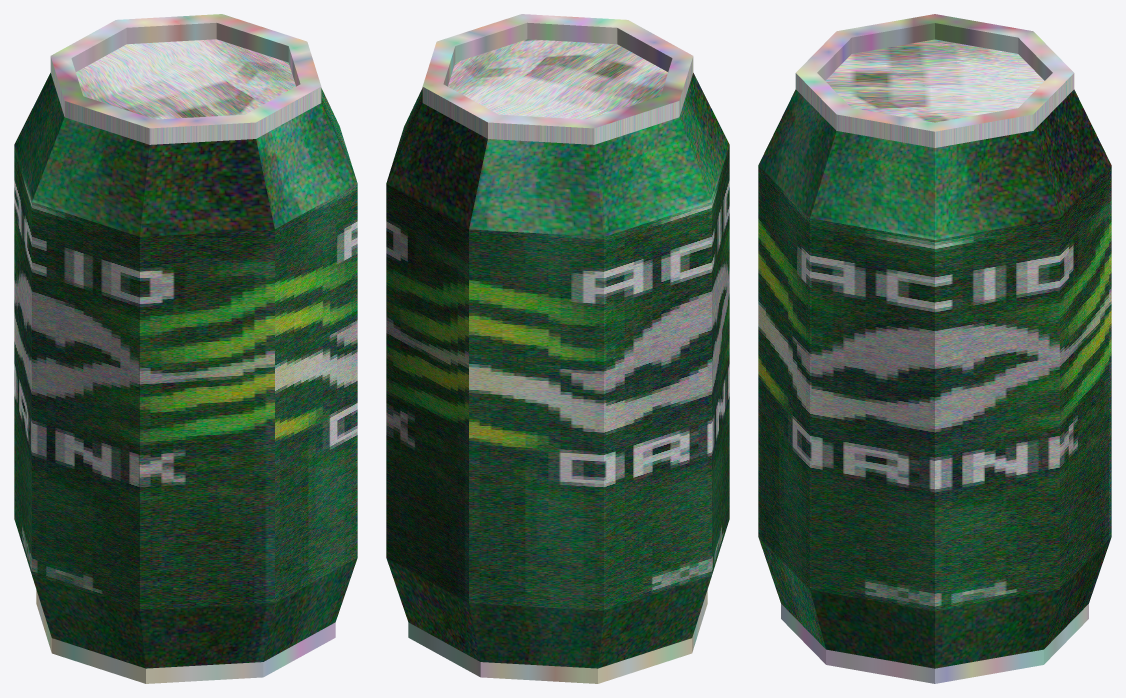
File: acid_green.fbx
3 views of the same model, side by side, from view 1: azimuth 30°, elevation 25°; view 2: azimuth 150°, elevation 25°; view 3: azimuth 270°, elevation 25° (orthographic).
Visible parts, largest first — view 1: bottel02; view 2: bottel02; view 3: bottel02.
Part boxes in pixels (bbox=[...]): bottel02: bbox=[14, 14, 357, 683]; bottel02: bbox=[386, 14, 729, 683]; bottel02: bbox=[758, 14, 1111, 683].
Bounding box in the file's own units: 15.84 × 27.02 × 15.84.
